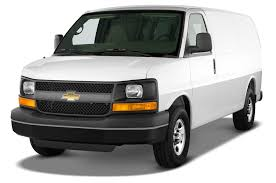van: (11, 4, 263, 168)
